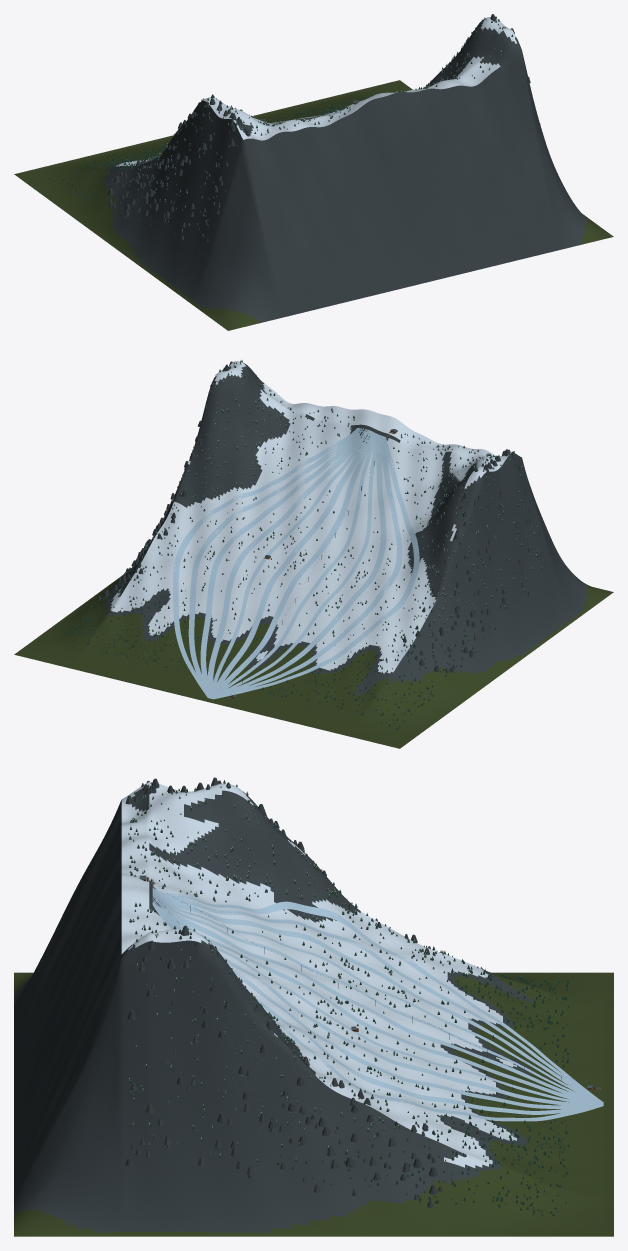
File: snow-mountain.glb
3 views of the same model, one above another, from view 1: azimuth 30°, elevation 25°; view 2: azimuth 150°, elevation 25°; view 3: azimuth 270°, elevation 25° (orthographic). The views are drawn at different scales.
Parts seen in each view (by area): view 1: mountain · Terrain.001, mountain · Terrain, mountain · Terrain.002, mountain · Evergreens, mountain · Exposed crags; view 2: mountain · Terrain.002, mountain · Terrain.001, mountain · Terrain, mountain · Piste, mountain · Evergreens, mountain · Exposed crags, mountain · Snow on branches; view 3: mountain · Terrain.001, mountain · Terrain.002, mountain · Terrain, mountain · Piste, mountain · Evergreens, mountain · Exposed crags, mountain · Snow on branches.
Boxes of the visible parts, x1,y1,x2,y2 form: mountain · Terrain.001: (103,19,587,322); mountain · Terrain: (14,80,613,330); mountain · Terrain.002: (116,17,517,166); mountain · Evergreens: (49,16,516,251); mountain · Exposed crags: (108,14,540,240); mountain · Terrain.002: (110,361,511,673); mountain · Terrain.001: (104,363,588,696); mountain · Terrain: (14,573,613,748); mountain · Piste: (173,428,419,699); mountain · Evergreens: (58,360,547,729); mountain · Exposed crags: (97,361,546,673); mountain · Snow on branches: (132,360,547,644); mountain · Terrain.001: (14,785,533,1232); mountain · Terrain.002: (121,782,516,1167); mountain · Terrain: (14,972,613,1236); mountain · Piste: (152,888,603,1121); mountain · Evergreens: (128,780,569,1215); mountain · Exposed crags: (125,777,442,1207); mountain · Snow on branches: (128,779,444,1159).
Bounding box in the file's own units: 1800 × 857 × 1730.
Materials: 13 (6 with a texture image).
